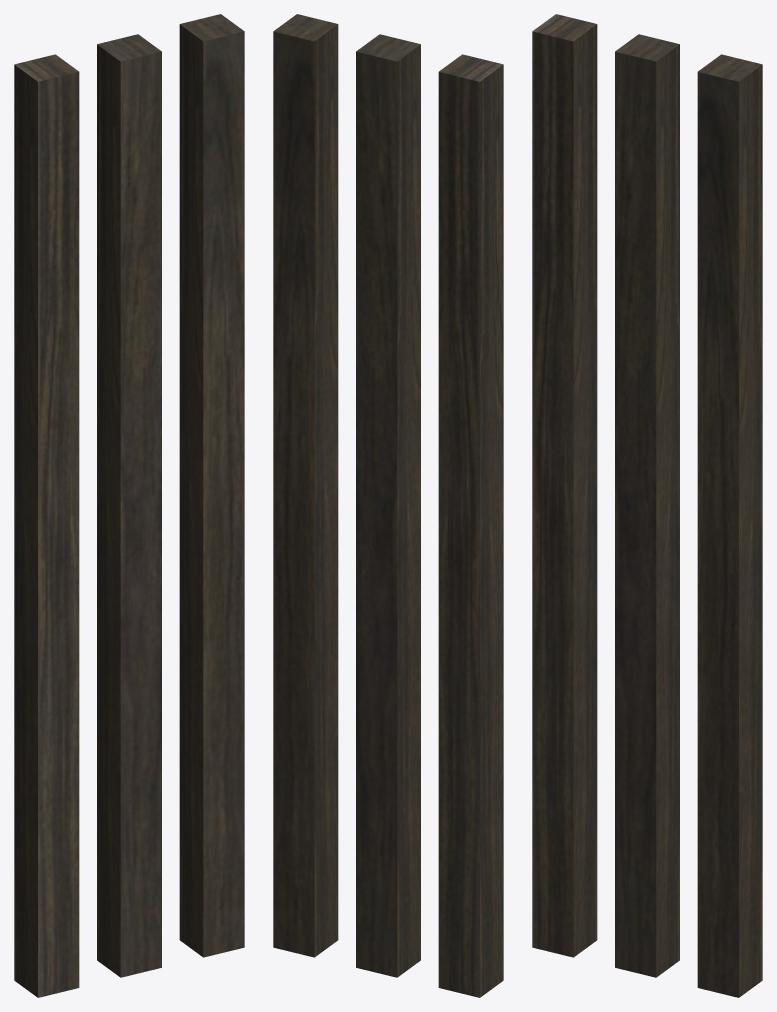
The model's file is eaw-slit-85-3_h1800_blackebony.fbx.
3 views of the same model, side by side, from view 1: azimuth 30°, elevation 25°; view 2: azimuth 150°, elevation 25°; view 3: azimuth 330°, elevation 25° (orthographic).
Visible parts, largest first — view 1: eaw-slit-85-3_h1800_blackebony; view 2: eaw-slit-85-3_h1800_blackebony; view 3: eaw-slit-85-3_h1800_blackebony.
Part boxes in pixels (x1,y1,x2,y2): eaw-slit-85-3_h1800_blackebony: (14,14,244,997); eaw-slit-85-3_h1800_blackebony: (273,14,503,997); eaw-slit-85-3_h1800_blackebony: (532,14,762,997).
Bounding box in the file's own units: 42.5 × 180 × 8.5.
1 material, 1 textured.
